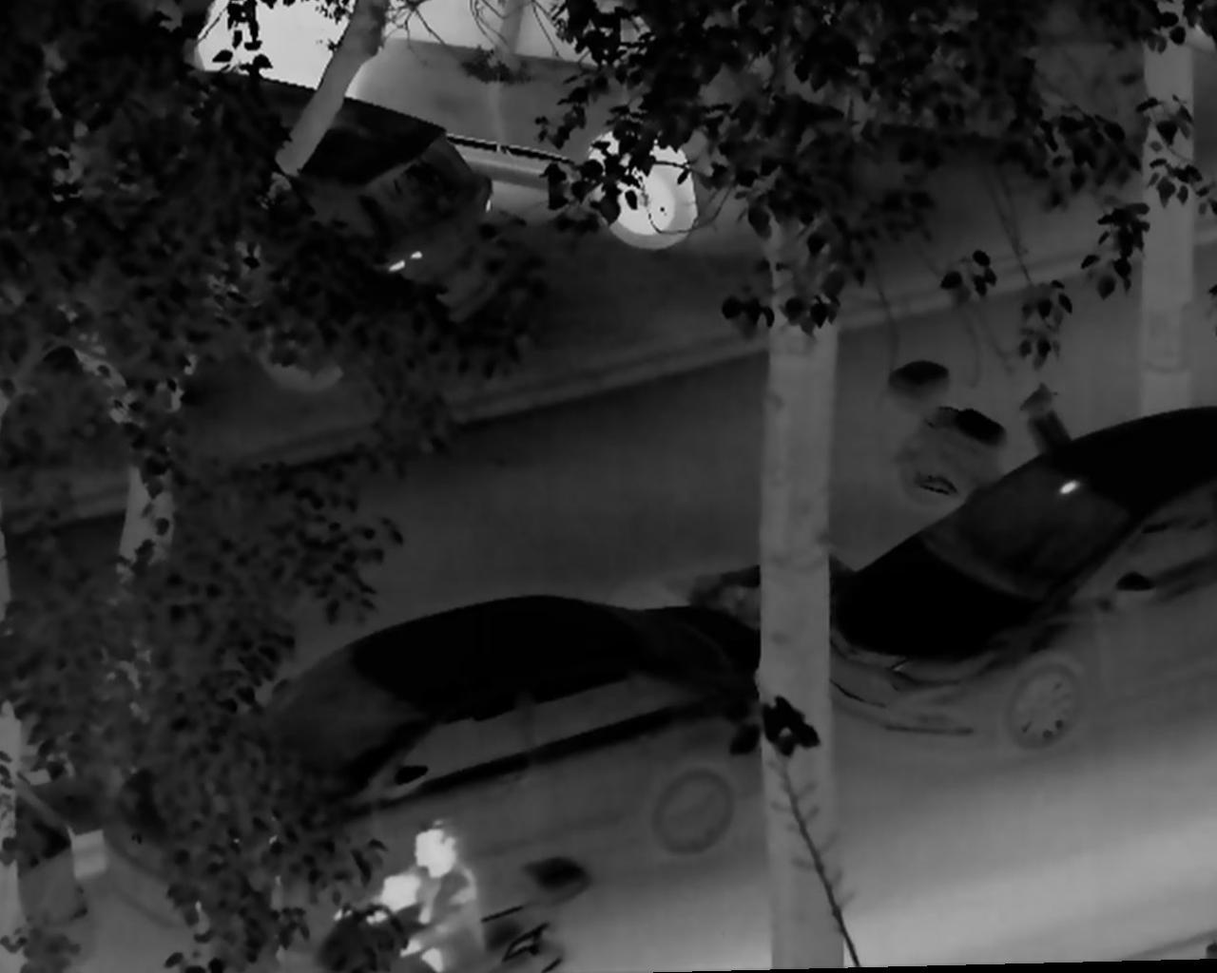person: (338, 822, 491, 973), (368, 869, 428, 940)
